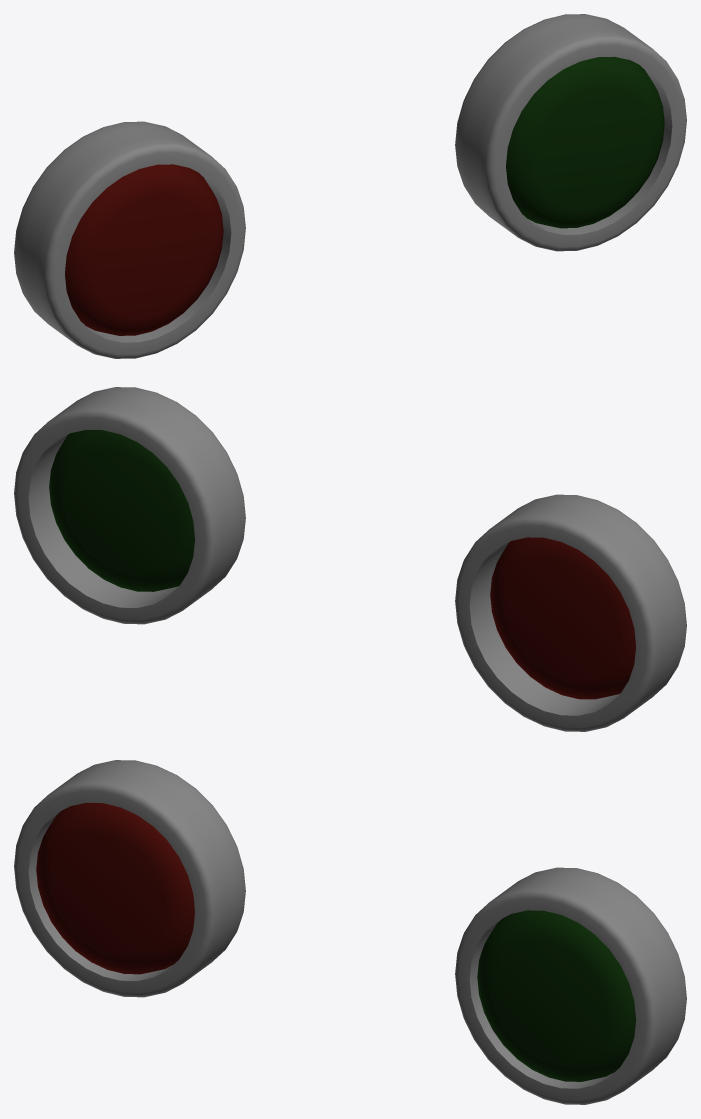
Rendered from light.obj.
3 renders of one model, top to bottom at view 1: azimuth 30°, elevation 25°; view 2: azimuth 150°, elevation 25°; view 3: azimuth 330°, elevation 25°, orthographic.
Visible parts, largest first — view 1: bulb, bulb_1, cylinder_1, cylinder, cylinder_2, cylinder1; view 2: cylinder_1, cylinder, bulb, bulb_1, cylinder1, cylinder_2; view 3: bulb_1, bulb, cylinder, cylinder_1, cylinder1, cylinder_2.
Boxes of the visible parts, bbox=[...] form: bulb: bbox=[506, 56, 664, 228]; bulb_1: bbox=[65, 164, 223, 335]; cylinder_1: bbox=[14, 121, 245, 358]; cylinder: bbox=[455, 14, 686, 251]; cylinder_2: bbox=[86, 172, 231, 342]; cylinder1: bbox=[528, 65, 672, 234]; cylinder_1: bbox=[455, 494, 686, 731]; cylinder: bbox=[14, 387, 245, 624]; bulb: bbox=[49, 429, 194, 591]; bulb_1: bbox=[490, 537, 635, 699]; cylinder1: bbox=[28, 434, 179, 607]; cylinder_2: bbox=[469, 542, 620, 715]; bulb_1: bbox=[36, 802, 194, 974]; bulb: bbox=[477, 910, 635, 1081]; cylinder: bbox=[455, 867, 686, 1104]; cylinder_1: bbox=[14, 760, 245, 997]; cylinder1: bbox=[469, 918, 614, 1088]; cylinder_2: bbox=[28, 811, 172, 980].
Bounding box in the file's own units: 11.18 × 3.48 × 1.19.
